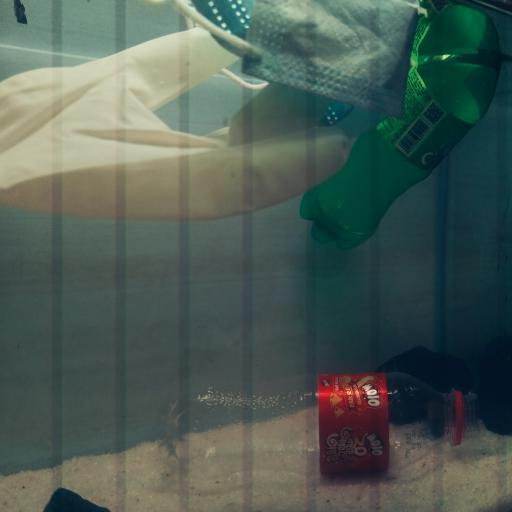glove: (2, 23, 352, 224)
mask: (170, 0, 429, 122)
plastic_bottle: (301, 54, 499, 249), (158, 368, 480, 484)
